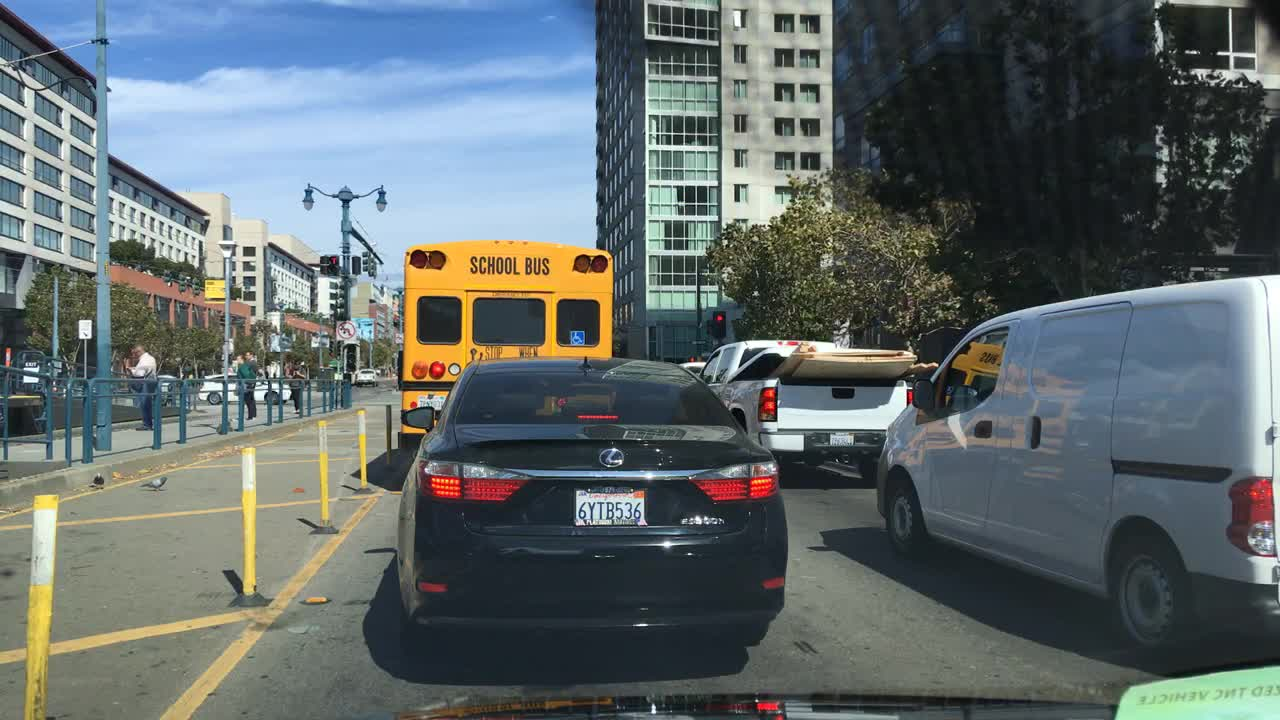bus: (396, 238, 615, 473)
car: (875, 275, 1276, 650), (394, 354, 789, 666), (700, 338, 919, 479), (198, 372, 292, 405), (9, 347, 48, 396), (146, 372, 186, 406), (355, 368, 379, 386), (679, 358, 706, 374), (375, 366, 388, 377)
person: (122, 345, 157, 433), (231, 353, 253, 421), (286, 357, 308, 414), (124, 347, 143, 387), (241, 352, 257, 391)
traffic light: (330, 279, 346, 319), (710, 308, 728, 337), (328, 255, 340, 275), (351, 255, 362, 275), (318, 254, 329, 272)
traffic sign: (204, 279, 225, 304), (334, 320, 358, 341), (78, 318, 93, 339)
